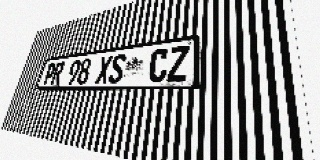8: (76, 58, 93, 84)
9: (66, 59, 82, 85)
C: (147, 48, 169, 82)
P: (42, 63, 57, 85)
R: (50, 61, 65, 85)
S: (107, 53, 127, 84)
X: (95, 55, 113, 84)
Z: (166, 45, 190, 82)
